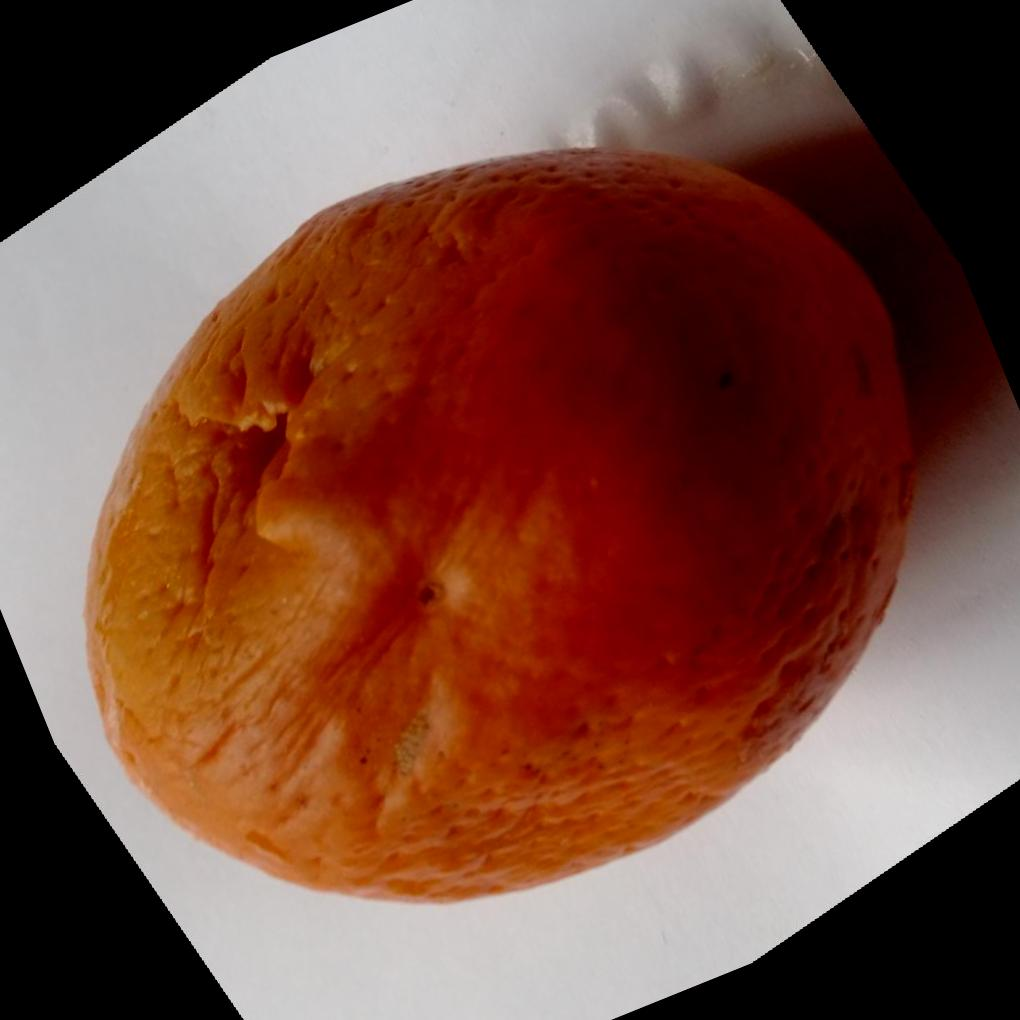FreshOrange: (83, 147, 918, 910)
